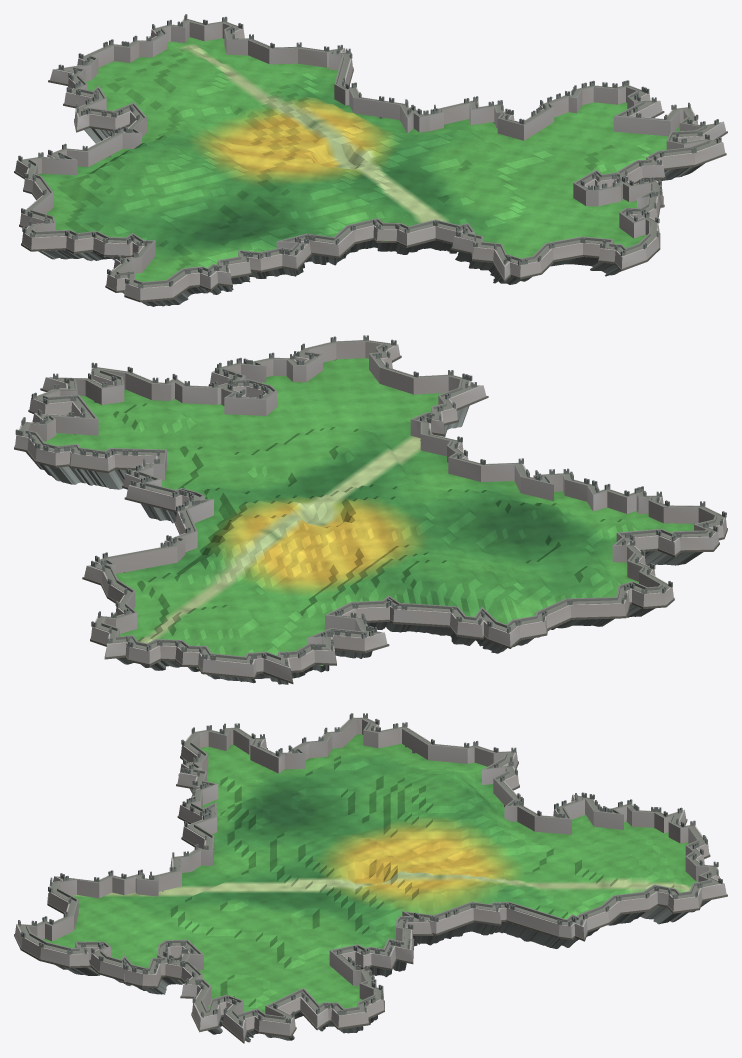
The picture shows the model from 3 angles, top to bottom: view 1: azimuth 30°, elevation 25°; view 2: azimuth 150°, elevation 25°; view 3: azimuth 270°, elevation 25°; orthographic projection. The views are drawn at different scales.
Parts seen in each view (by area): view 1: ground_8386d03d; view 2: ground_8386d03d; view 3: ground_8386d03d.
Part boxes in pixels (x1,y1,x2,y2): ground_8386d03d: (14,14,727,306); ground_8386d03d: (14,335,727,684); ground_8386d03d: (14,713,727,1043).
Size of the model in its own units: 157 by 8.13 by 151.
3 materials, 1 textured.
